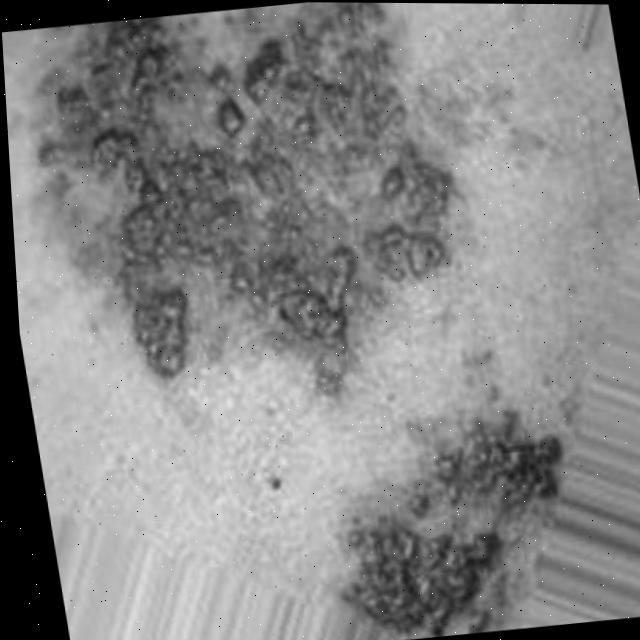Shingles: (11, 0, 482, 374), (319, 420, 595, 640)
